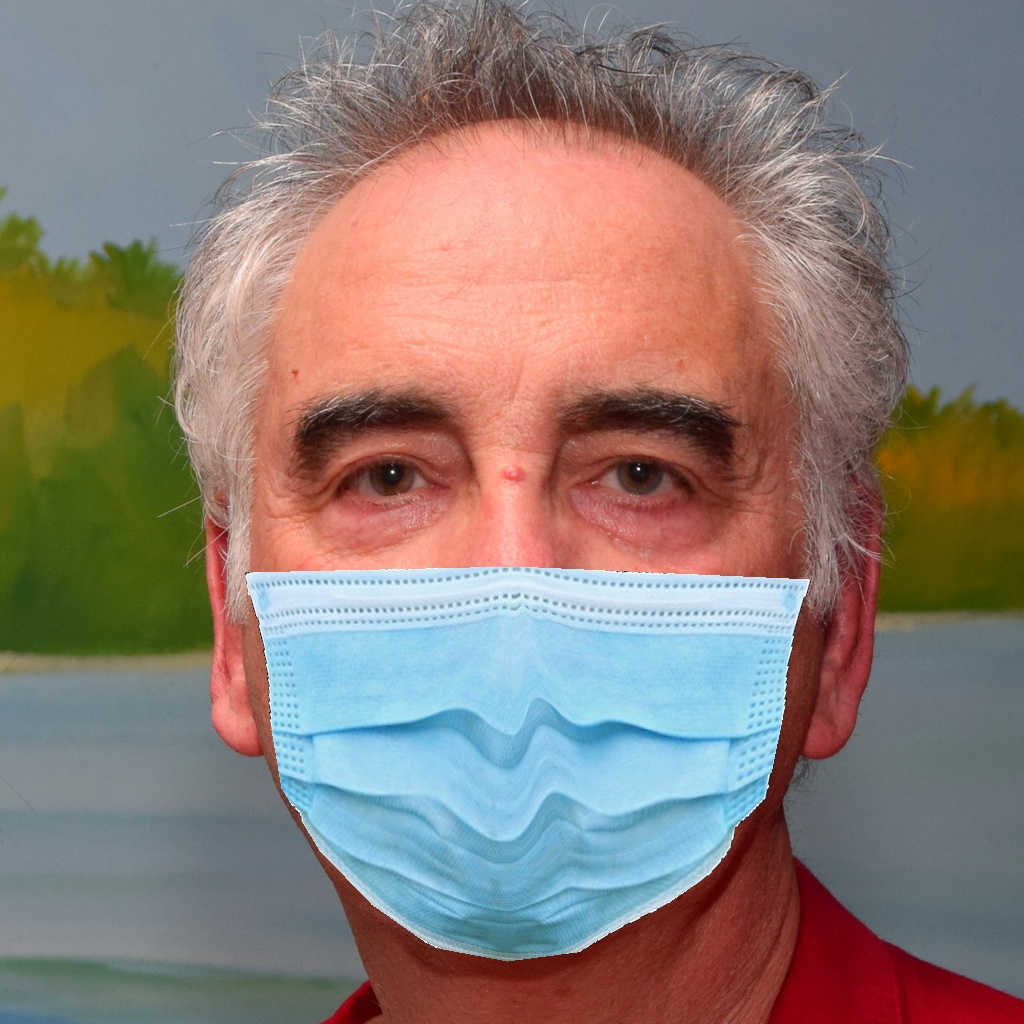Mask: (244, 334, 821, 965)
